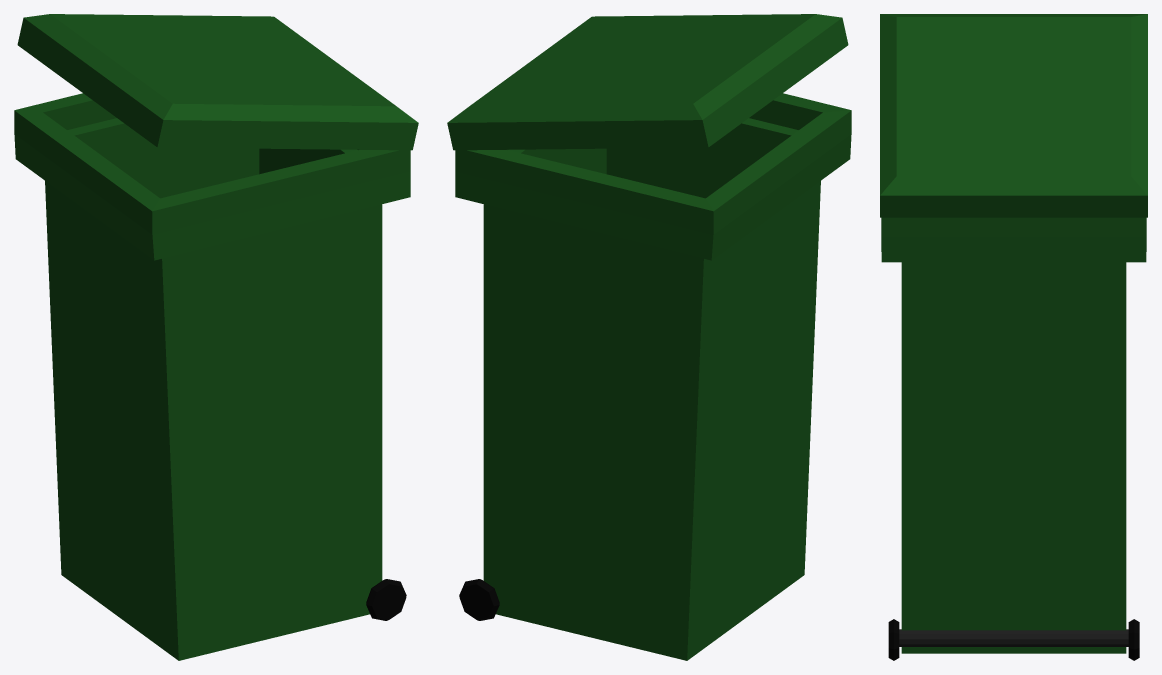
File: garbage_box.fbx
The picture shows the model from 3 angles, left to right: view 1: azimuth 30°, elevation 25°; view 2: azimuth 150°, elevation 25°; view 3: azimuth 270°, elevation 25°; orthographic projection. The views are drawn at different scales.
Visible parts, largest first — view 1: box, tapa, ruedas; view 2: box, tapa, ruedas; view 3: box, tapa, soporte ruedas, ruedas.
Boxes of the visible parts, <box> form: box: <box>14,93,410,660</box>; tapa: <box>17,14,418,150</box>; ruedas: <box>366,579,406,620</box>; box: <box>455,93,851,660</box>; tapa: <box>447,14,848,150</box>; ruedas: <box>459,579,499,620</box>; box: <box>881,217,1146,653</box>; tapa: <box>880,14,1147,217</box>; soporte ruedas: <box>899,629,1128,646</box>; ruedas: <box>888,619,1139,660</box>.
Size of the model in its own units: 99.29 by 203 by 90.59.
